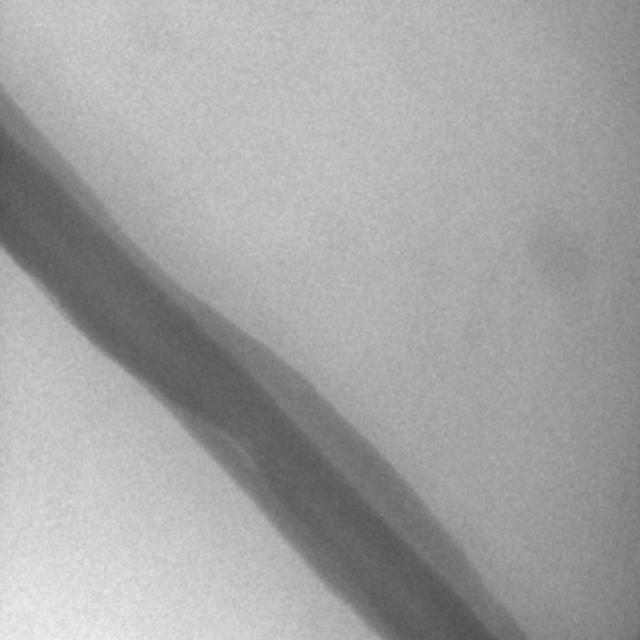unfused: (220, 435, 265, 483)
